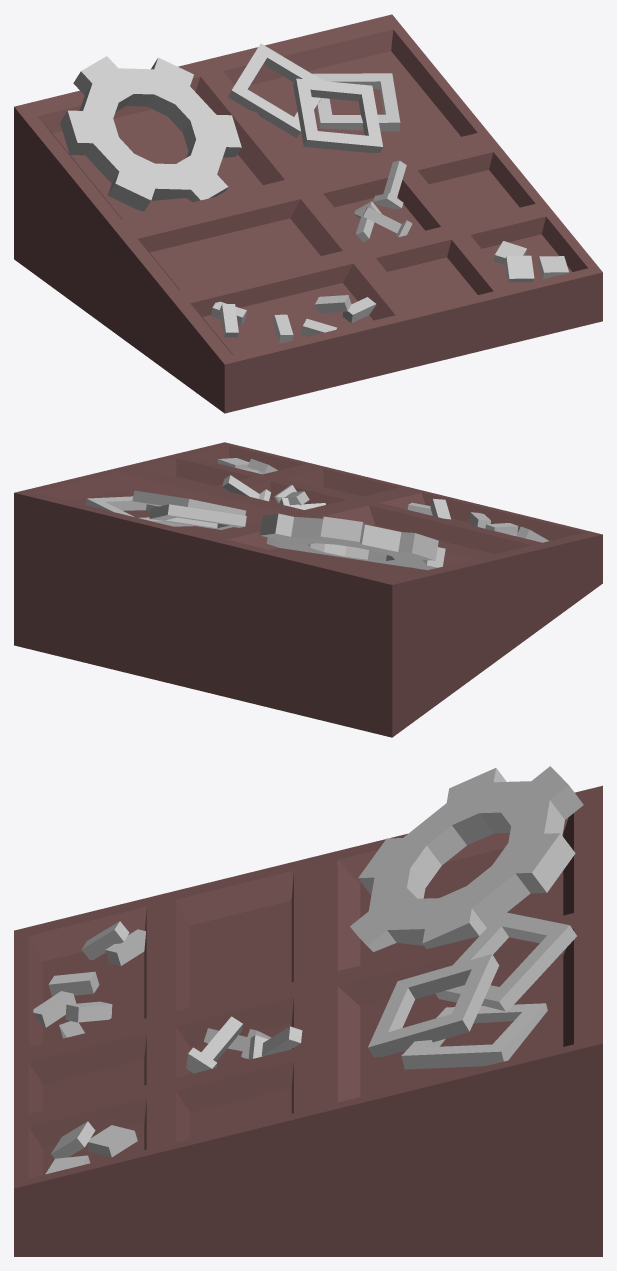
File: NutsBolts_01.fbx
3 views of the same model, one above another, from view 1: azimuth 30°, elevation 25°; view 2: azimuth 150°, elevation 25°; view 3: azimuth 270°, elevation 25° (orthographic). The views are drawn at different scales.
Visible parts, largest first — view 1: NutsBolts_01; view 2: NutsBolts_01; view 3: NutsBolts_01.
Boxes of the visible parts, x1,y1,x2,y2 form: NutsBolts_01: (14,14,602,413); NutsBolts_01: (14,442,602,737); NutsBolts_01: (14,766,602,1256).
Size of the model in its own units: 56.58 by 27.54 by 54.61.
